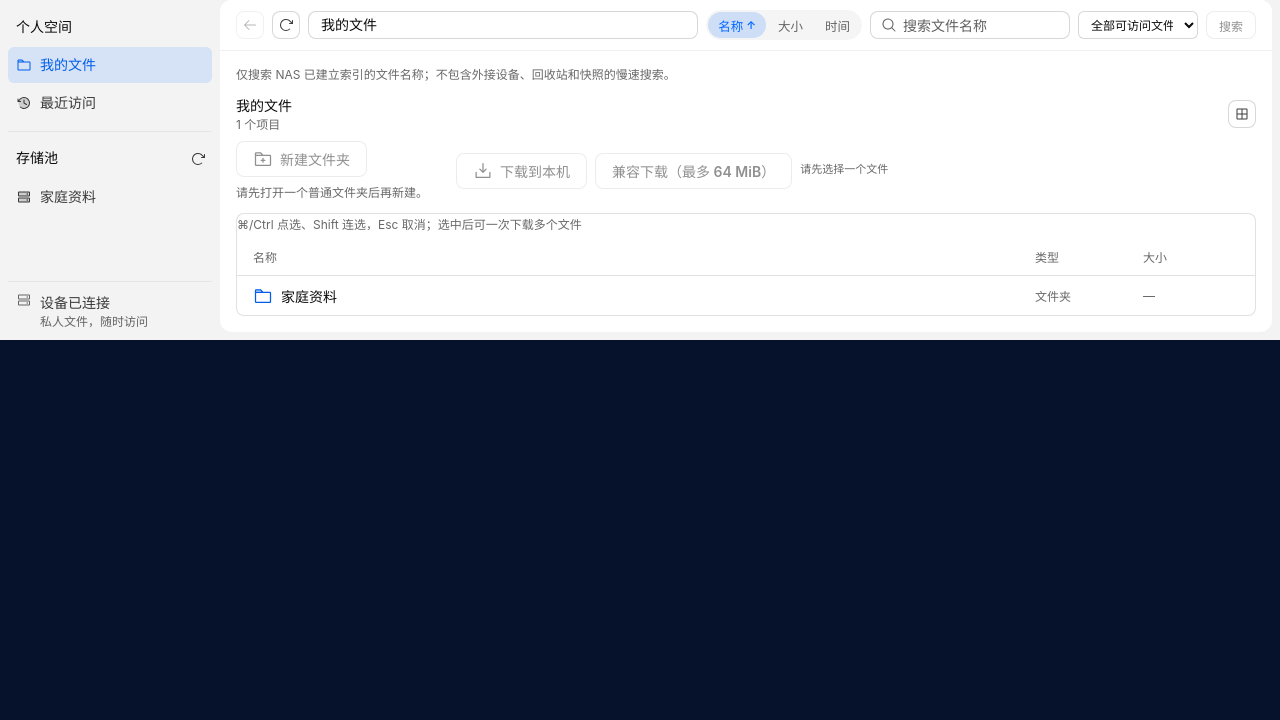
Test: searches an actual directory or all accessible indexed files and clears back to that directory page one
Click the button named "家庭资料文件夹".
click(309, 296)  # box [237,275,1255,315]
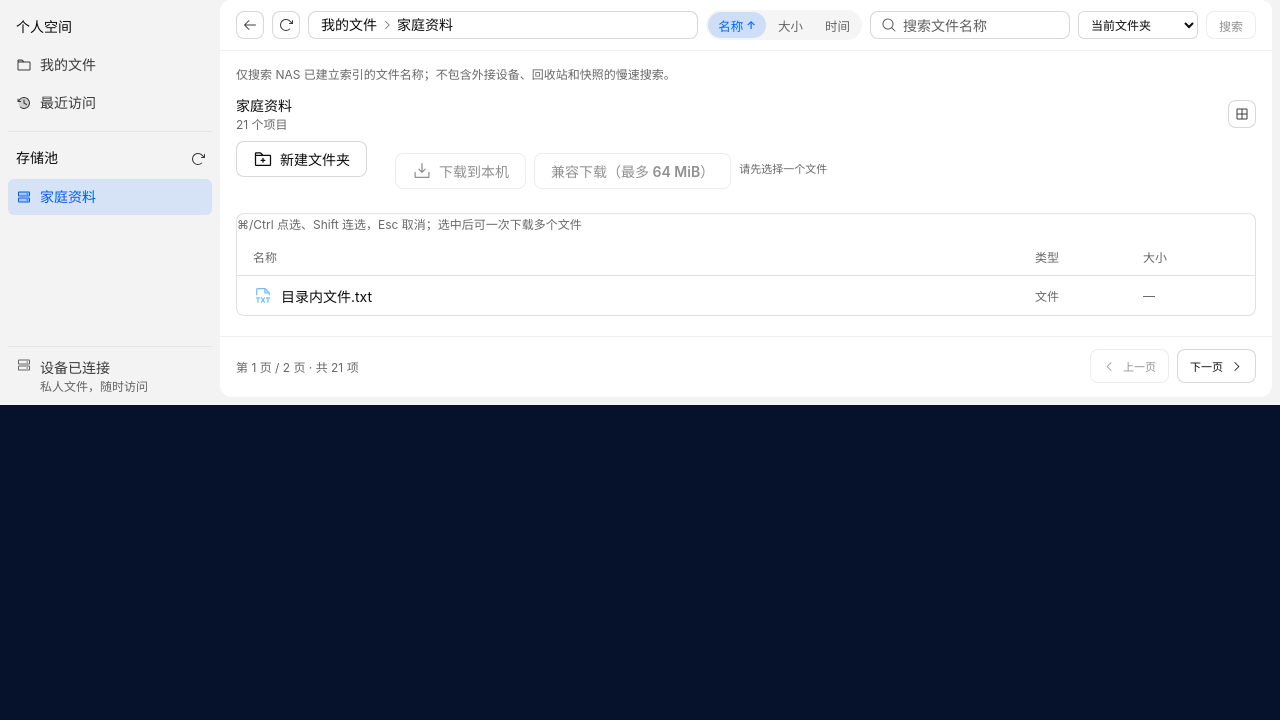
Now the text "目录内文件.txt" is shown, box [253,286,372,306]
Type "报告" into the field labelled "搜索文件名称".
click(981, 25); type("报告")  # box [903,12,1059,38]
Click the button "搜索".
click(1231, 25)  # box [1206,11,1256,39]
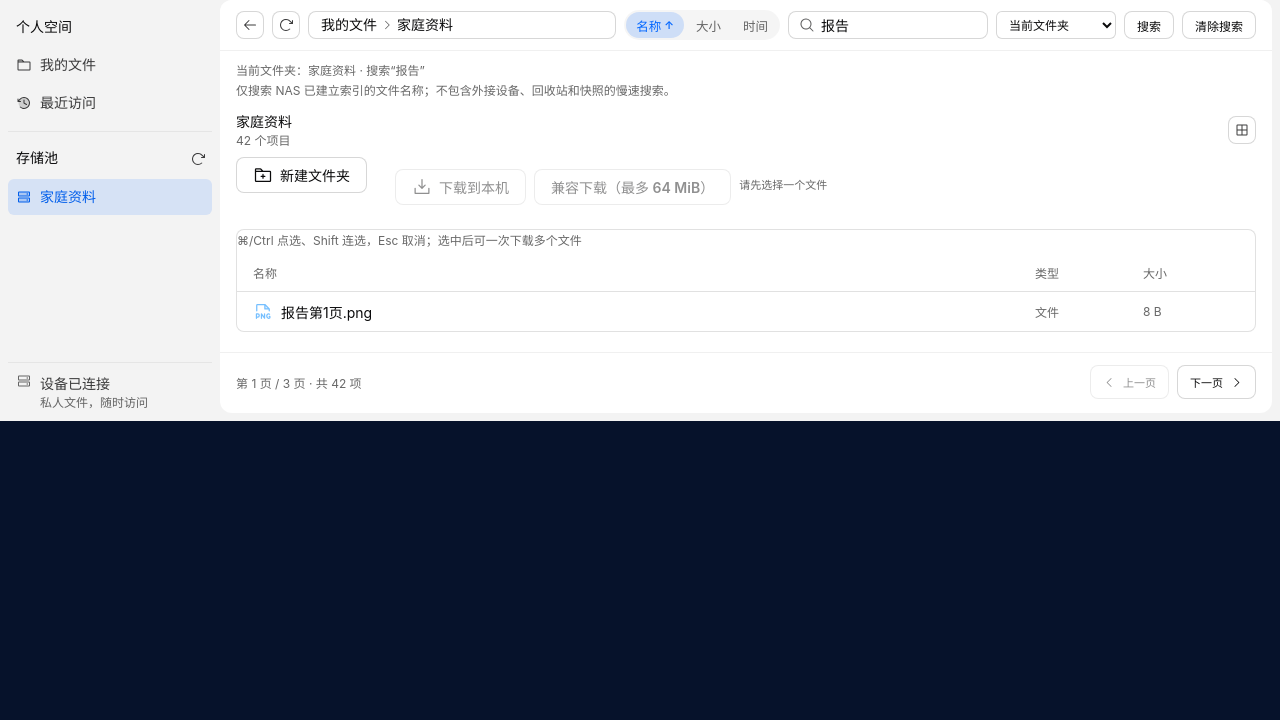
Now the text "报告第1页.png" is shown, box [253,302,372,322]
Click the button "下一页".
click(1216, 382)  # box [1177,365,1256,399]
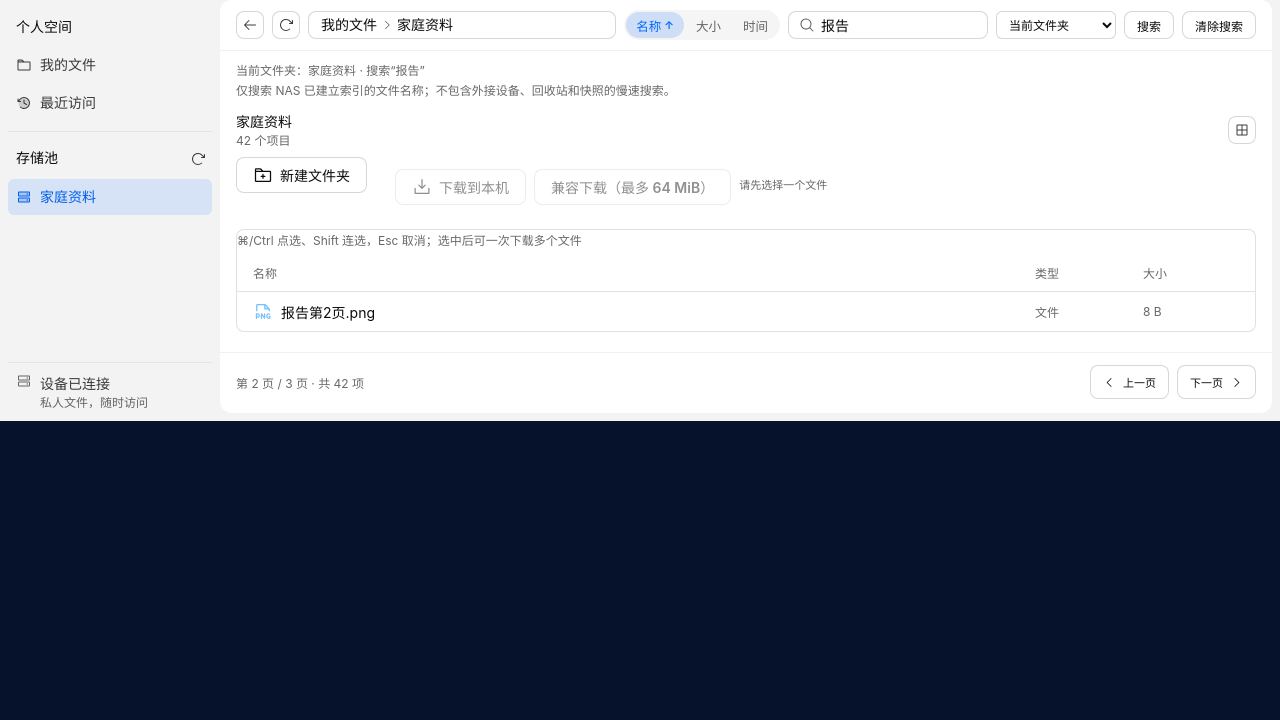
Now the text "报告第2页.png" is shown, box [253,302,375,322]
Click the button "报告第2页.png 文件 8 B".
click(328, 312)  # box [237,291,1255,331]
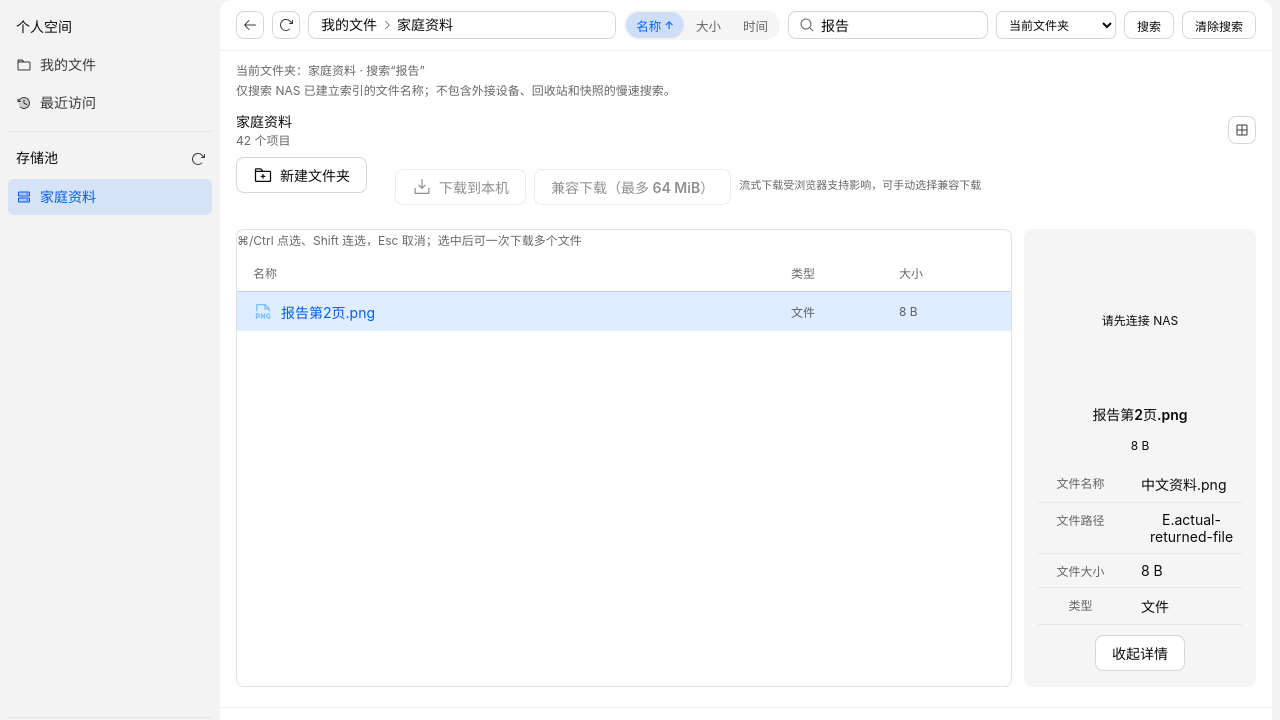
Now the button "收起详情" is shown, box [1095,635,1185,671]
Select "全部可访问文件" in the dropdown named "搜索范围" at [1056, 25], box [996,11,1116,39]
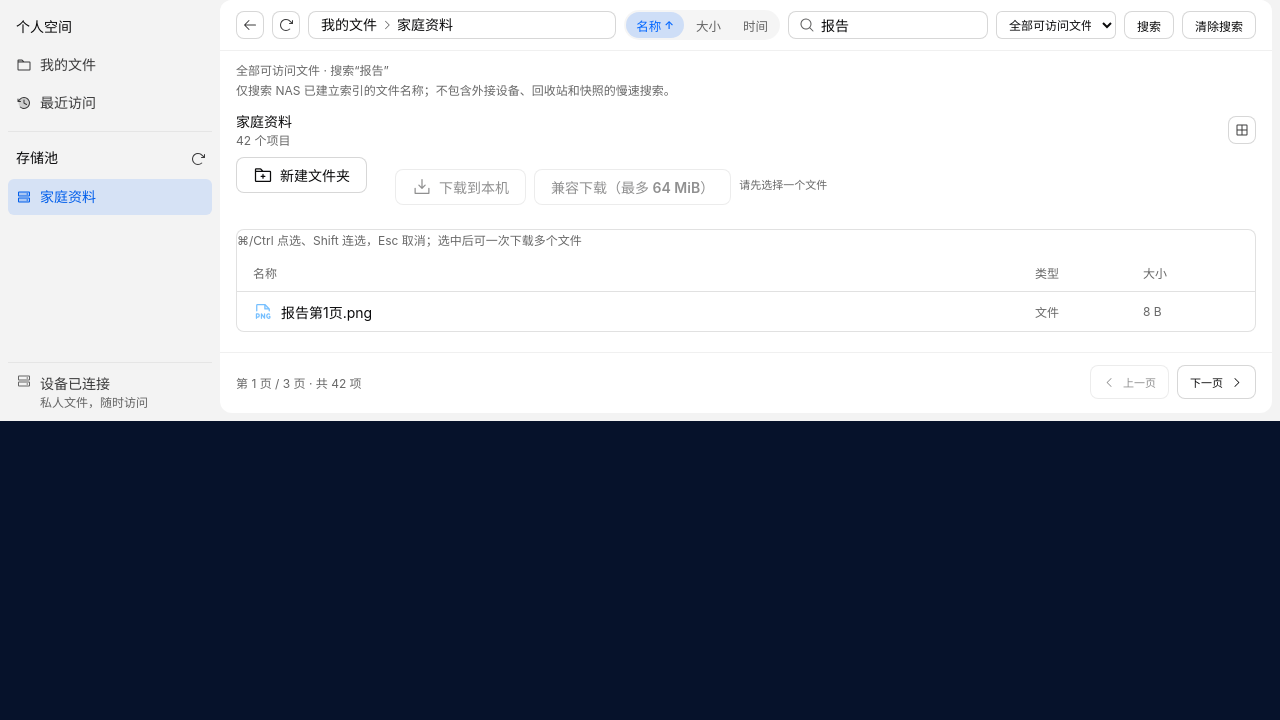
Now the text "报告第1页.png" is shown, box [253,302,372,322]
Now the button "收起详情" is gone
Click the button "清除搜索".
click(1219, 25)  # box [1182,11,1256,39]
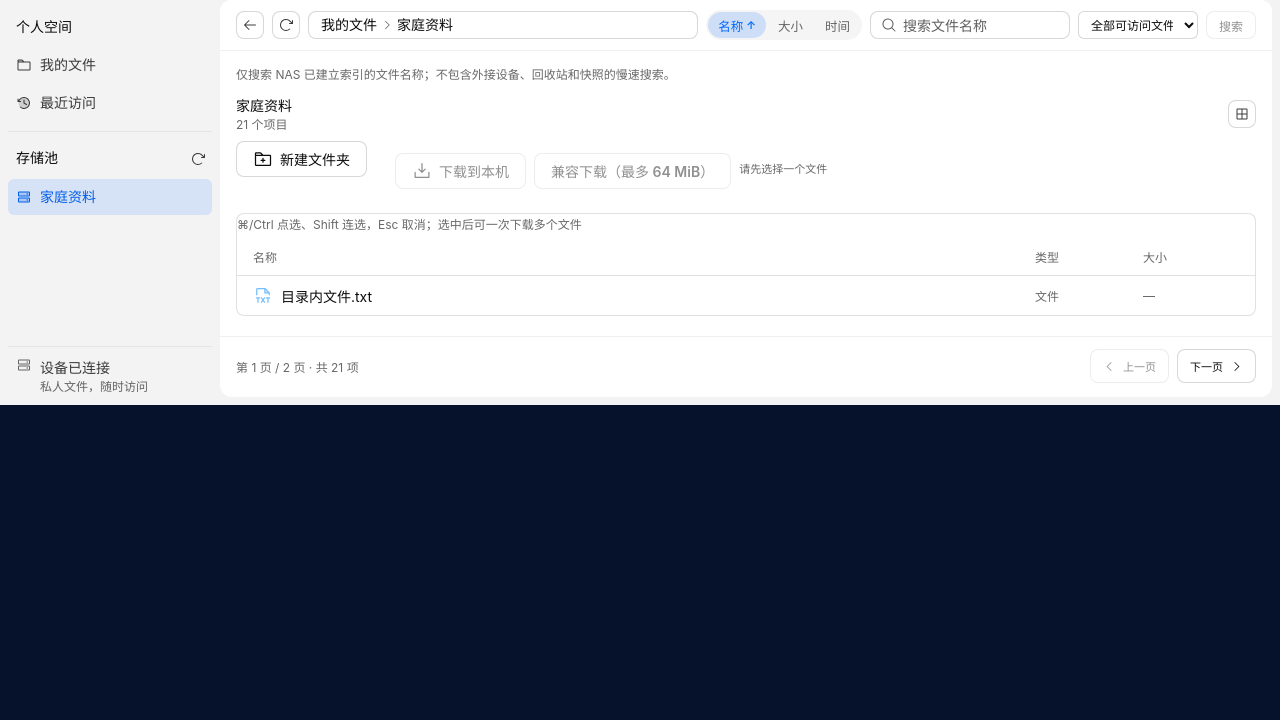
Now the heading "家庭资料" is shown, box [236,95,292,117]
Now the text "目录内文件.txt" is shown, box [253,286,372,306]
Now the field labelled "搜索文件名称" is empty, box [903,12,1059,38]
